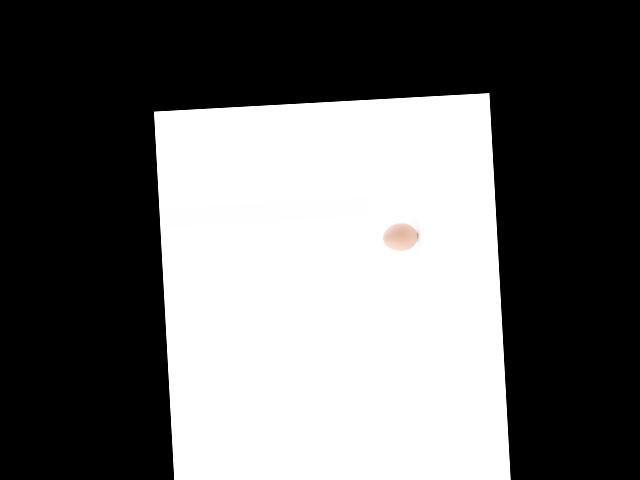egg: (382, 221, 418, 251)
